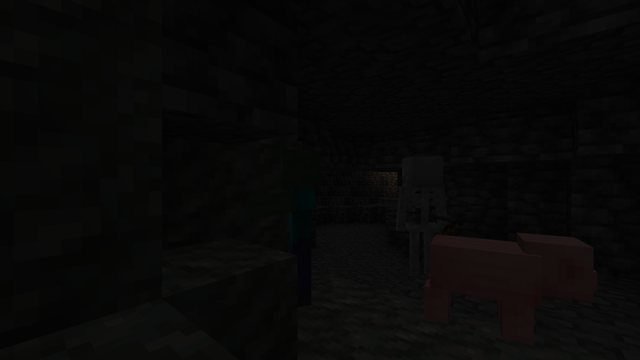cochons: (427, 230, 529, 354)
squelettes: (397, 156, 444, 279)
zombies: (280, 152, 327, 308)
